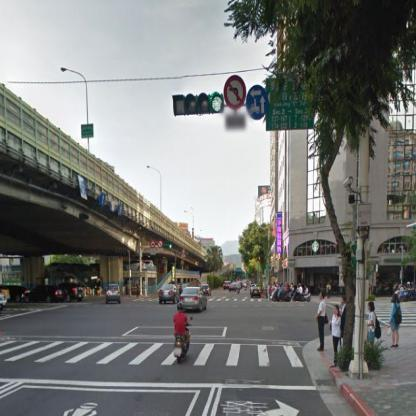Green Light: (172, 94, 224, 114)
